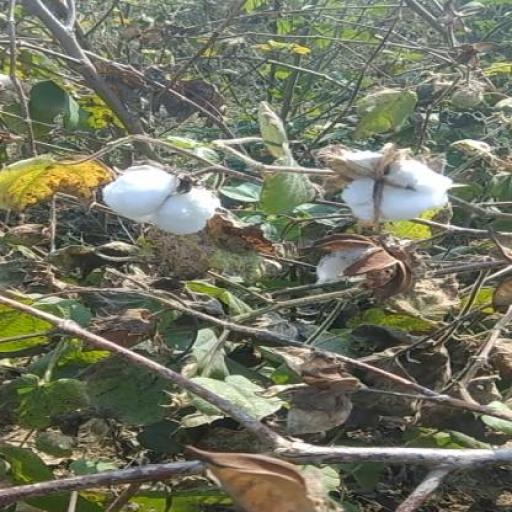cotton_ready: (317, 138, 453, 229), (96, 158, 228, 236)
